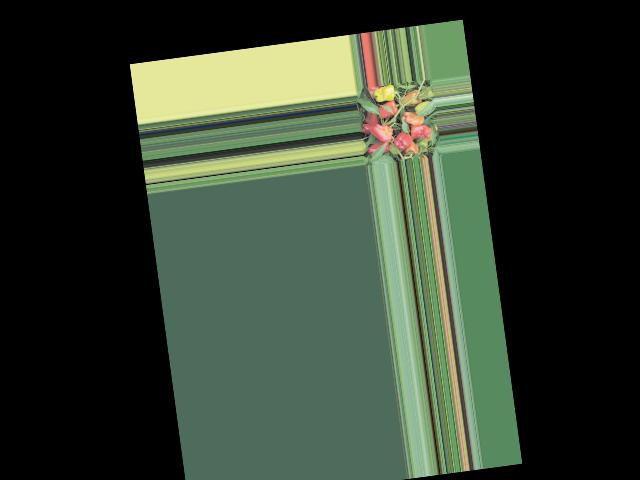bell_pepper: (407, 141, 419, 156)
